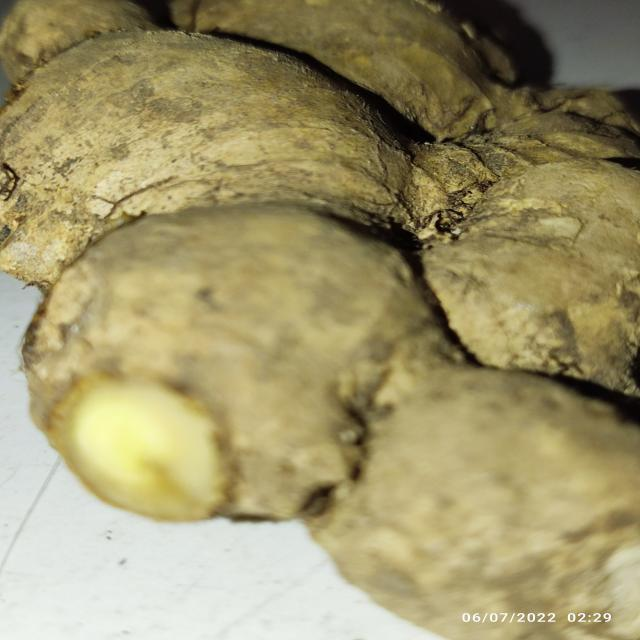ginger: (20, 4, 633, 602)
